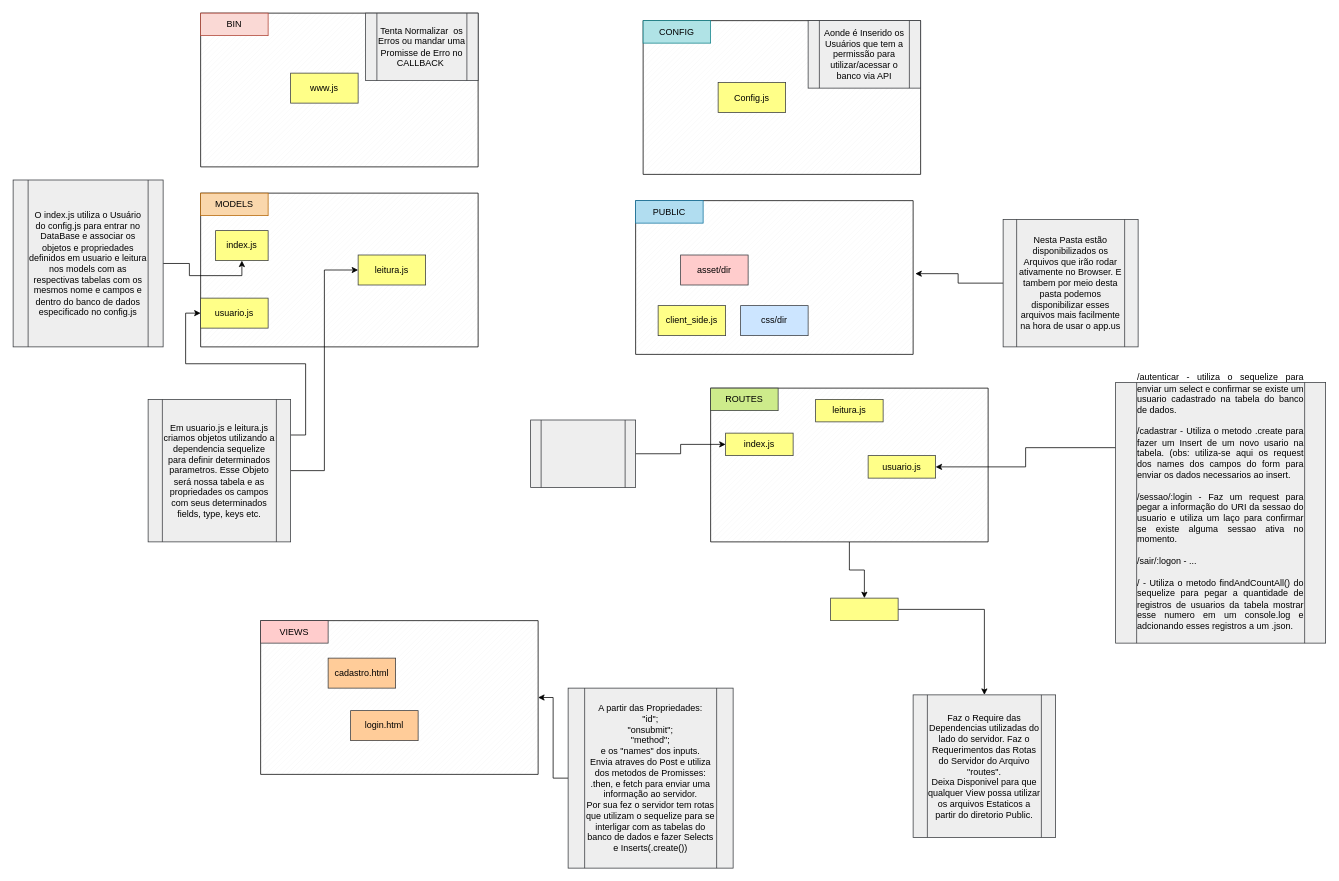
Some shapes in this 1339 by 881 pixel diagram are drawn without their labels. Here are the shapes that lost their labels. From the top down, the box of each, then its label:
(530, 419, 636, 488): Definindo a Rota Padrão para o Servidor
(830, 597, 898, 621): APP.JS
